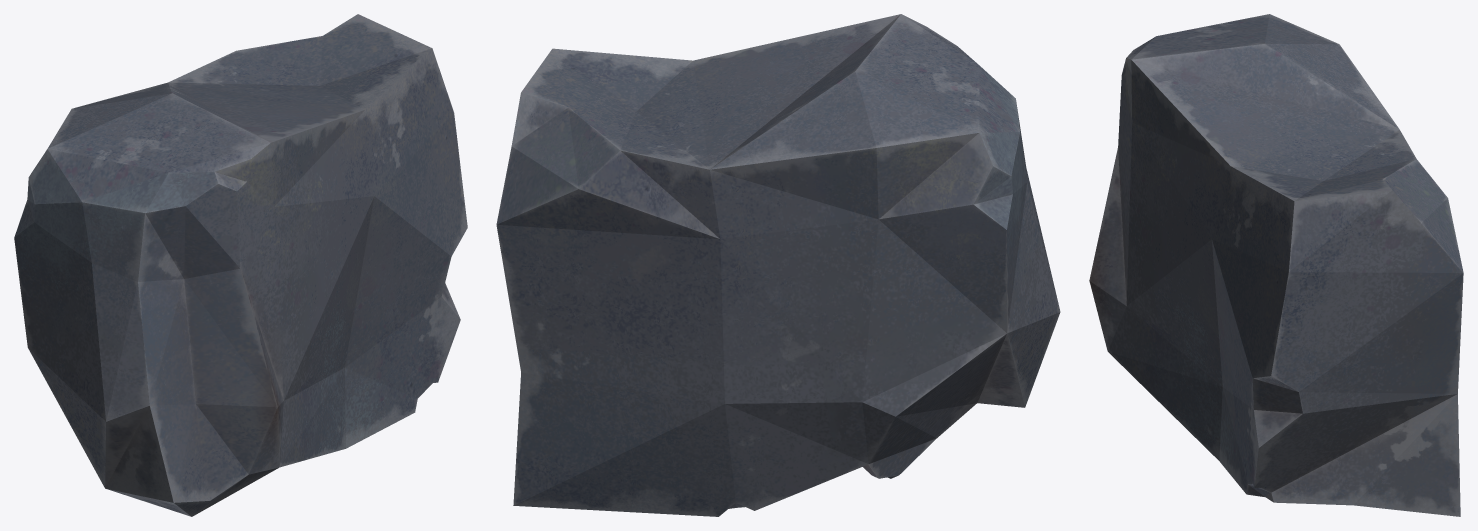
File: Rock3.fbx
The picture shows the model from 3 angles, left to right: view 1: azimuth 30°, elevation 25°; view 2: azimuth 150°, elevation 25°; view 3: azimuth 270°, elevation 25°; orthographic projection. The views are drawn at different scales.
Visible parts, largest first — view 1: stylized_rock_65; view 2: stylized_rock_65; view 3: stylized_rock_65.
Boxes of the visible parts, x1,y1,x2,y2 form: stylized_rock_65: (14, 14, 467, 516); stylized_rock_65: (496, 14, 1060, 516); stylized_rock_65: (1089, 14, 1463, 516).
Size of the model in its own units: 2428 by 2046 by 1869.
Materials: 1 (1 with a texture image).
